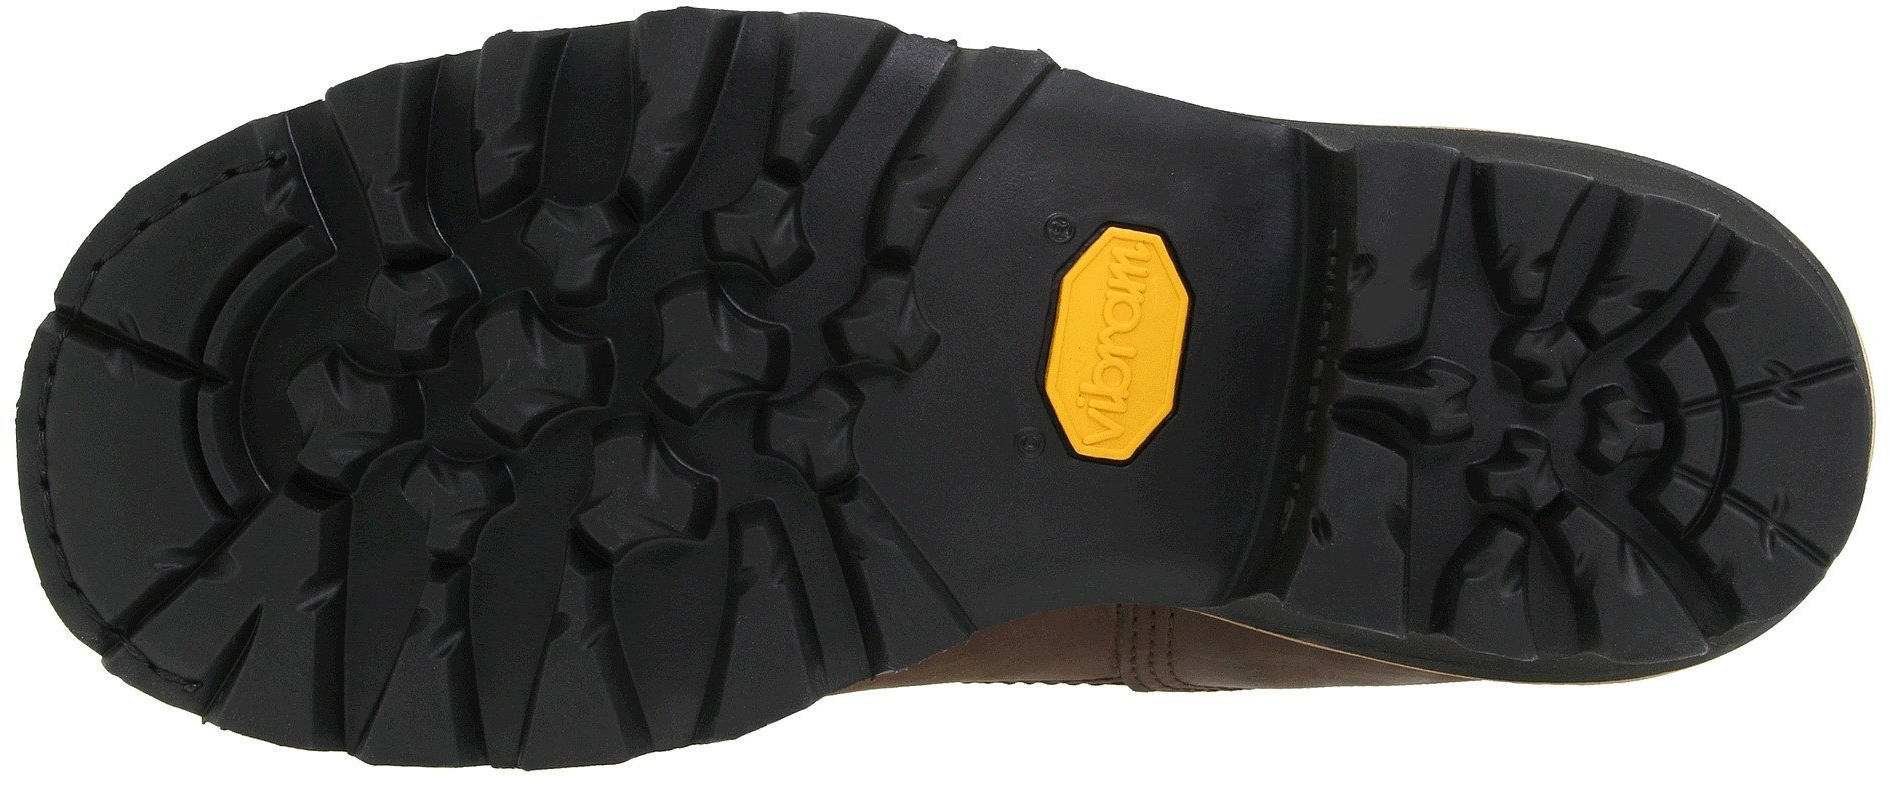other: (46, 408, 193, 537), (946, 459, 1082, 588)
quad: (972, 198, 1264, 490)
star: (277, 184, 667, 562), (618, 163, 968, 490), (1399, 285, 1675, 539)
text: (1070, 386, 1141, 453), (1094, 234, 1161, 300), (1080, 328, 1146, 391)
triangle: (595, 17, 890, 256), (369, 494, 651, 742)
